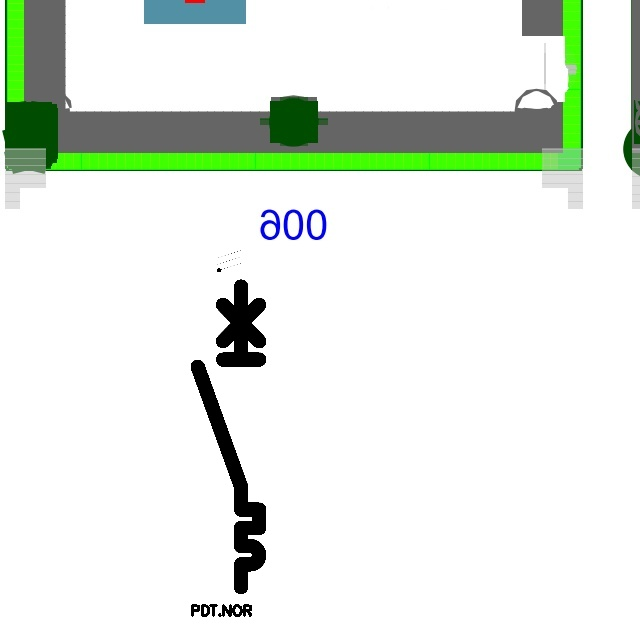interruptor_termomagnetico: (190, 278, 267, 594)
